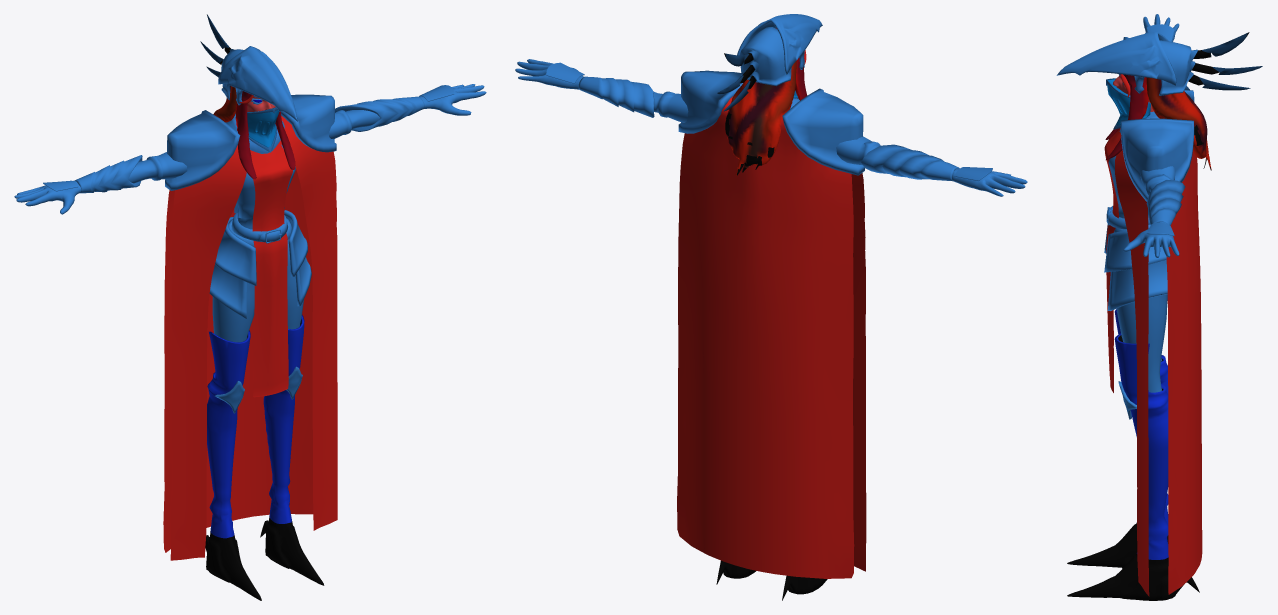
The model's file is phoebetest3.fbx.
3 views of the same model, side by side, from view 1: azimuth 30°, elevation 25°; view 2: azimuth 150°, elevation 25°; view 3: azimuth 270°, elevation 25° (orthographic). The views are drawn at different scales.
Parts seen in each view (by area): view 1: frontcape_lp, cape_lp, jambe_lp, tabar_lp, shoulderpad_lp, body_lp, casque_lp, arm_lp, waistu_lp, cuisse_lp, waistd_lp, fronthair_lp (+4 smaller); view 2: cape_lp, shoulderpad_lp, frontcape_lp, hair_lp, arm_lp, body_lp, casqueback_lp, casque_lp, jambe_lp, mainplate_lp; view 3: cape_lp, jambe_lp, frontcape_lp, shoulderpad_lp, casque_lp, casqueback_lp, cuisse_lp, body_lp, hair_lp, waistd_lp, arm_lp, waistu_lp (+4 smaller).
Boxes of the visible parts, bbox=[...] form: frontcape_lp: bbox=[170, 125, 337, 560]; cape_lp: bbox=[163, 116, 313, 552]; jambe_lp: bbox=[205, 314, 324, 600]; tabar_lp: bbox=[250, 142, 292, 397]; shoulderpad_lp: bbox=[165, 94, 336, 190]; body_lp: bbox=[14, 84, 486, 229]; casque_lp: bbox=[218, 46, 297, 121]; arm_lp: bbox=[75, 96, 424, 193]; waistu_lp: bbox=[215, 210, 307, 285]; cuisse_lp: bbox=[212, 232, 303, 342]; waistd_lp: bbox=[209, 257, 311, 318]; fronthair_lp: bbox=[235, 91, 295, 179]; cape_lp: bbox=[677, 96, 854, 578]; shoulderpad_lp: bbox=[678, 70, 864, 175]; frontcape_lp: bbox=[851, 173, 866, 571]; hair_lp: bbox=[725, 61, 796, 175]; arm_lp: bbox=[578, 76, 959, 181]; body_lp: bbox=[515, 59, 1027, 196]; casqueback_lp: bbox=[717, 27, 791, 111]; casque_lp: bbox=[737, 14, 822, 74]; jambe_lp: bbox=[716, 560, 827, 600]; mainplate_lp: bbox=[546, 62, 992, 181]; cape_lp: bbox=[1166, 152, 1202, 594]; jambe_lp: bbox=[1067, 309, 1199, 600]; frontcape_lp: bbox=[1115, 150, 1149, 596]; shoulderpad_lp: bbox=[1120, 85, 1194, 201]; casque_lp: bbox=[1056, 32, 1176, 93]; casqueback_lp: bbox=[1159, 32, 1262, 95]; cuisse_lp: bbox=[1116, 294, 1167, 392]; body_lp: bbox=[1108, 14, 1179, 257]; hair_lp: bbox=[1146, 77, 1211, 170]; waistd_lp: bbox=[1107, 260, 1167, 310]; arm_lp: bbox=[1146, 180, 1185, 225]; waistu_lp: bbox=[1104, 224, 1166, 272].
Size of the model in its own units: 187 by 197 by 67.45.
